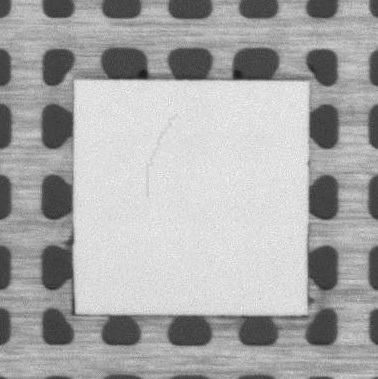DIE_CRACK: (139, 114, 178, 202)
